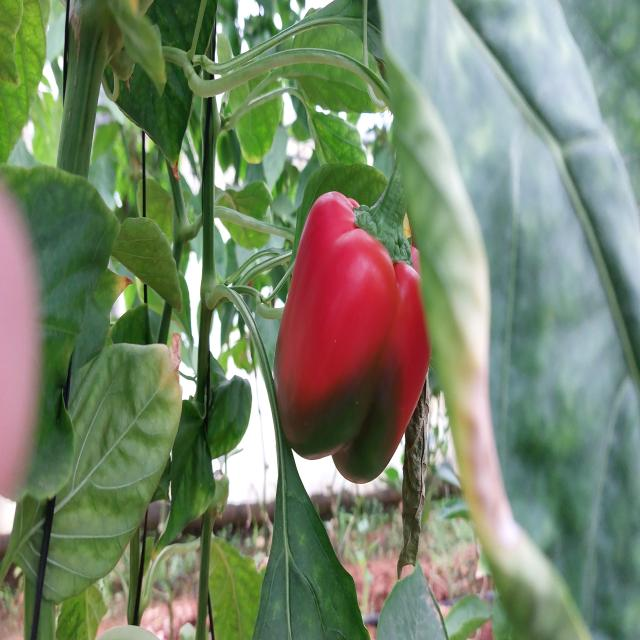Red-Ready-to-Harvest: (302, 196, 436, 504)
